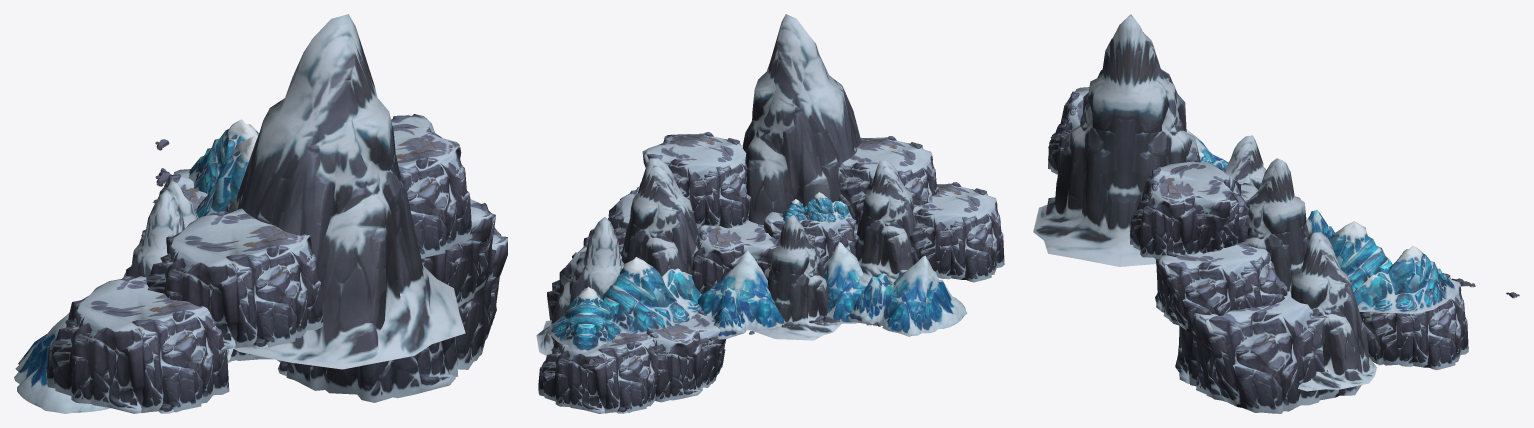
Rendered from yanshi7_1.fbx.
The picture shows the model from 3 angles, left to right: view 1: azimuth 30°, elevation 25°; view 2: azimuth 150°, elevation 25°; view 3: azimuth 270°, elevation 25°; orthographic projection. The views are drawn at different scales.
Parts seen in each view (by area): view 1: yanshi7_1; view 2: yanshi7_1; view 3: yanshi7_1.
Boxes of the visible parts, box(x1,y1,x2,y2) form: yanshi7_1: box(14, 14, 507, 413); yanshi7_1: box(536, 14, 1004, 413); yanshi7_1: box(1033, 14, 1519, 413).
Size of the model in its own units: 7547 by 5808 by 8190.
